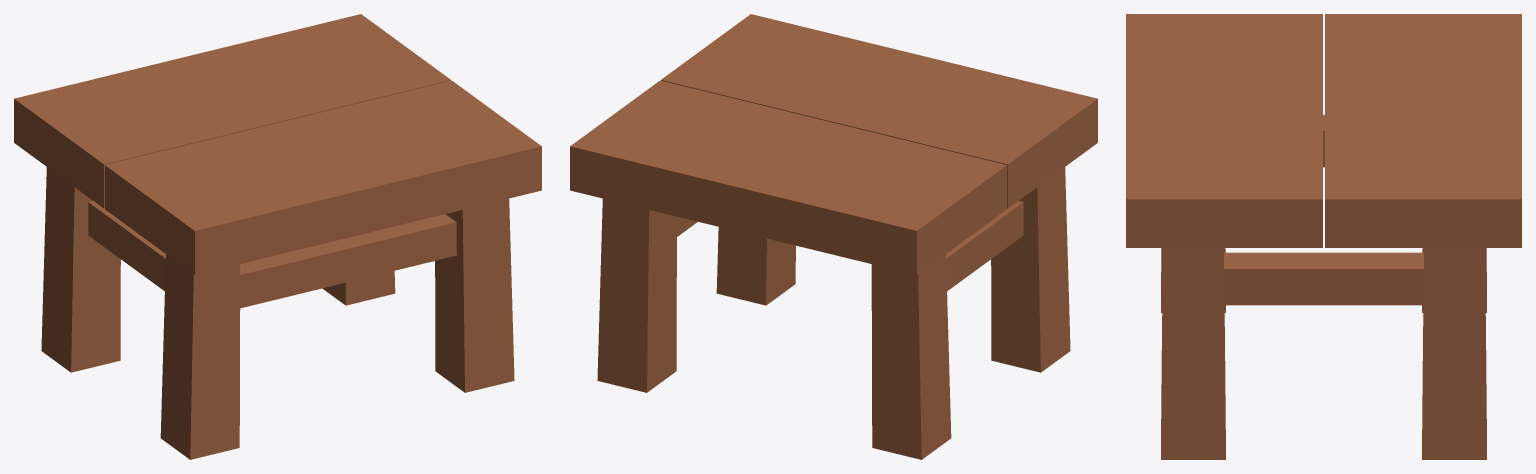
The model's file is table_med.glb.
The picture shows the model from 3 angles, left to right: view 1: azimuth 30°, elevation 25°; view 2: azimuth 150°, elevation 25°; view 3: azimuth 270°, elevation 25°; orthographic projection. The views are drawn at different scales.
Visible parts, largest first — view 1: table_med; view 2: table_med; view 3: table_med.
Boxes of the visible parts, x1=… form: table_med: x1=14, y1=14, x2=541, y2=459; table_med: x1=570, y1=14, x2=1097, y2=459; table_med: x1=1126, y1=14, x2=1521, y2=459.
Size of the model in its own units: 0.2951 by 0.1979 by 0.2663.
Materials: 1 (1 with a texture image).
